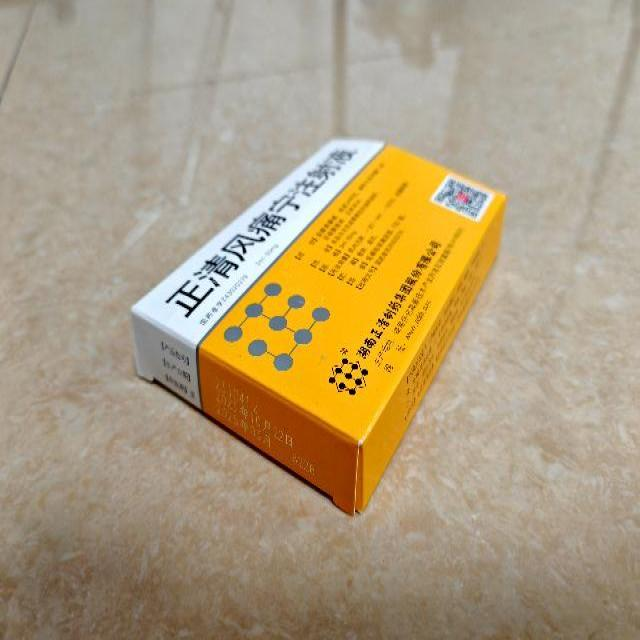box: (128, 138, 506, 513)
